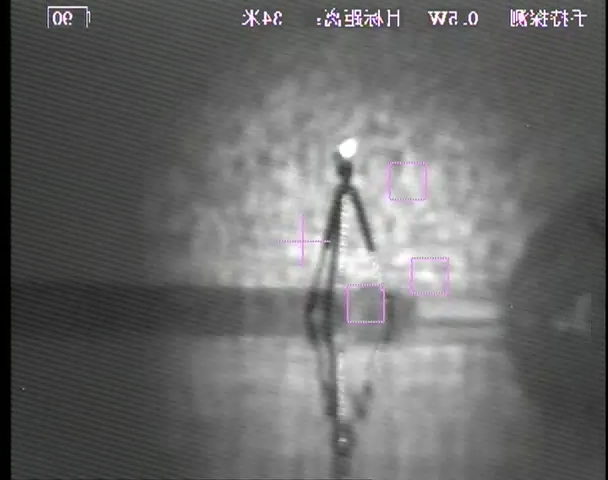my: (337, 134, 358, 160)
